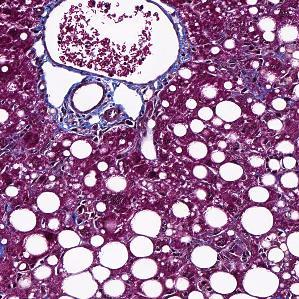fibrosis: (52, 107, 135, 139)
